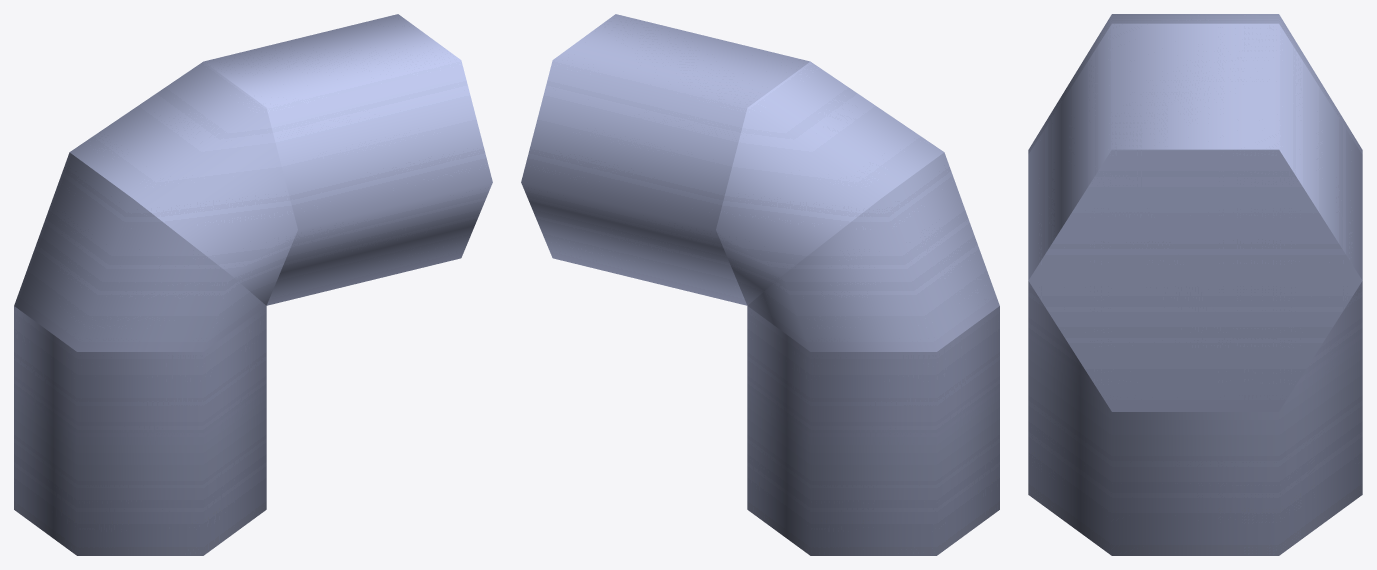
The model's file is pipe-bend.glb.
The picture shows the model from 3 angles, left to right: view 1: azimuth 30°, elevation 25°; view 2: azimuth 150°, elevation 25°; view 3: azimuth 270°, elevation 25°; orthographic projection. The views are drawn at different scales.
Parts seen in each view (by area): view 1: pipe-bend; view 2: pipe-bend; view 3: pipe-bend.
Boxes of the visible parts, box(x1,y1,x2,y2) form: pipe-bend: box(14, 14, 492, 555); pipe-bend: box(521, 14, 999, 555); pipe-bend: box(1028, 14, 1362, 555).
Bounding box in the file's own units: 0.5 × 0.5 × 0.2845.
Materials: 1 (1 with a texture image).
